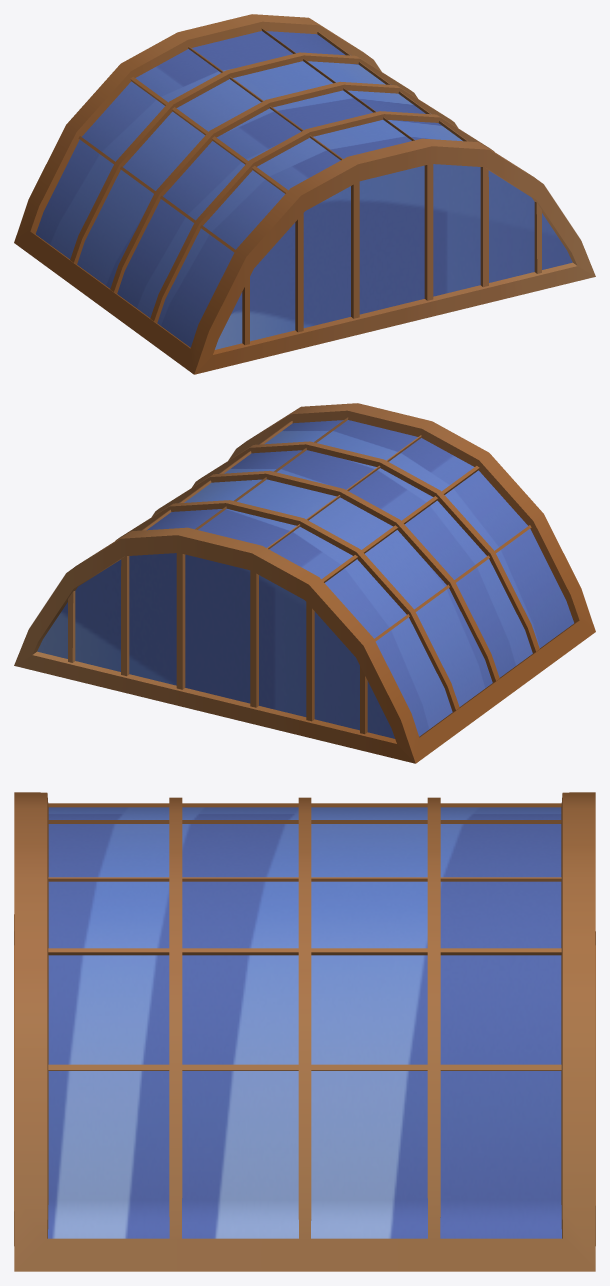
Rendered from RoofProp_5_A.fbx.
The picture shows the model from 3 angles, top to bottom: view 1: azimuth 30°, elevation 25°; view 2: azimuth 150°, elevation 25°; view 3: azimuth 270°, elevation 25°; orthographic projection. The views are drawn at different scales.
Parts seen in each view (by area): view 1: RoofProp_5_A; view 2: RoofProp_5_A; view 3: RoofProp_5_A.
Boxes of the visible parts, left/top/right/bottom form: RoofProp_5_A: left=14, top=14, right=595, bottom=374; RoofProp_5_A: left=14, top=403, right=595, bottom=763; RoofProp_5_A: left=14, top=792, right=595, bottom=1271.
Size of the model in its own units: 337 by 137 by 262.
